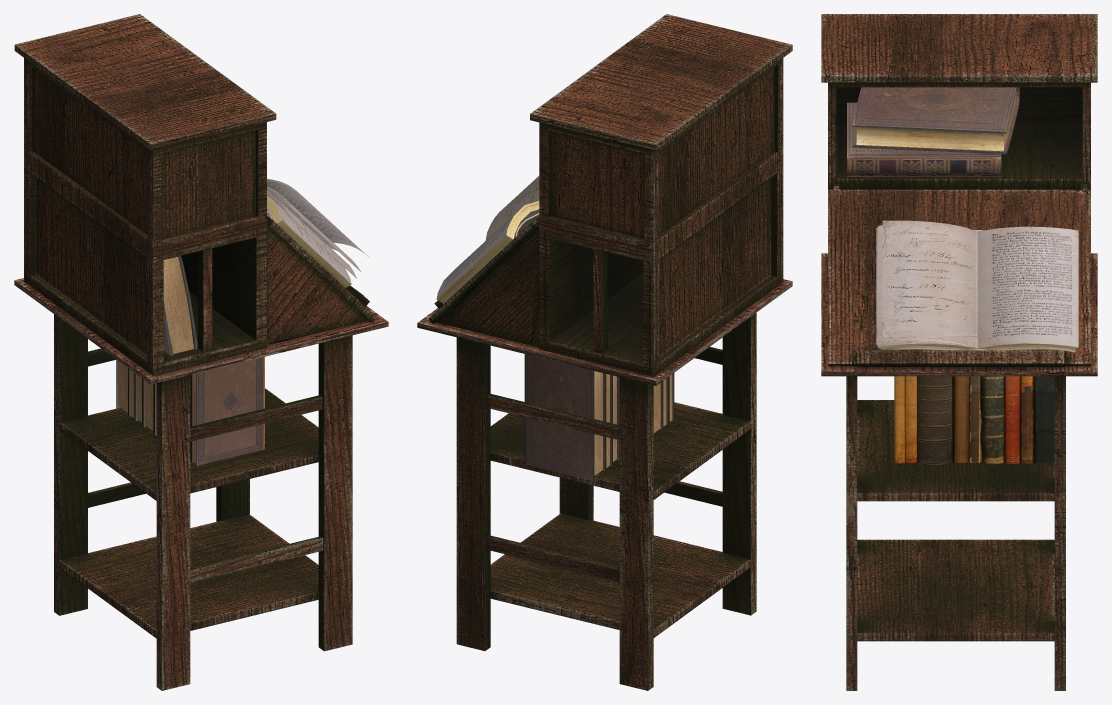
Rendered from bookShelf.fbx.
3 renders of one model, left to right at view 1: azimuth 30°, elevation 25°; view 2: azimuth 150°, elevation 25°; view 3: azimuth 270°, elevation 25°, orthographic.
Parts seen in each view (by area): view 1: bookPult1, books1; view 2: bookPult1, books1; view 3: bookPult1, books1.
Boxes of the visible parts, x1=… form: bookPult1: x1=14, y1=14, x2=388, y2=690; books1: x1=116, y1=179, x2=369, y2=465; bookPult1: x1=417, y1=14, x2=792, y2=690; books1: x1=436, y1=176, x2=674, y2=480; bookPult1: x1=821, y1=14, x2=1097, y2=690; books1: x1=847, y1=87, x2=1078, y2=464.
Size of the model in its own units: 62.11 by 133 by 58.57.
